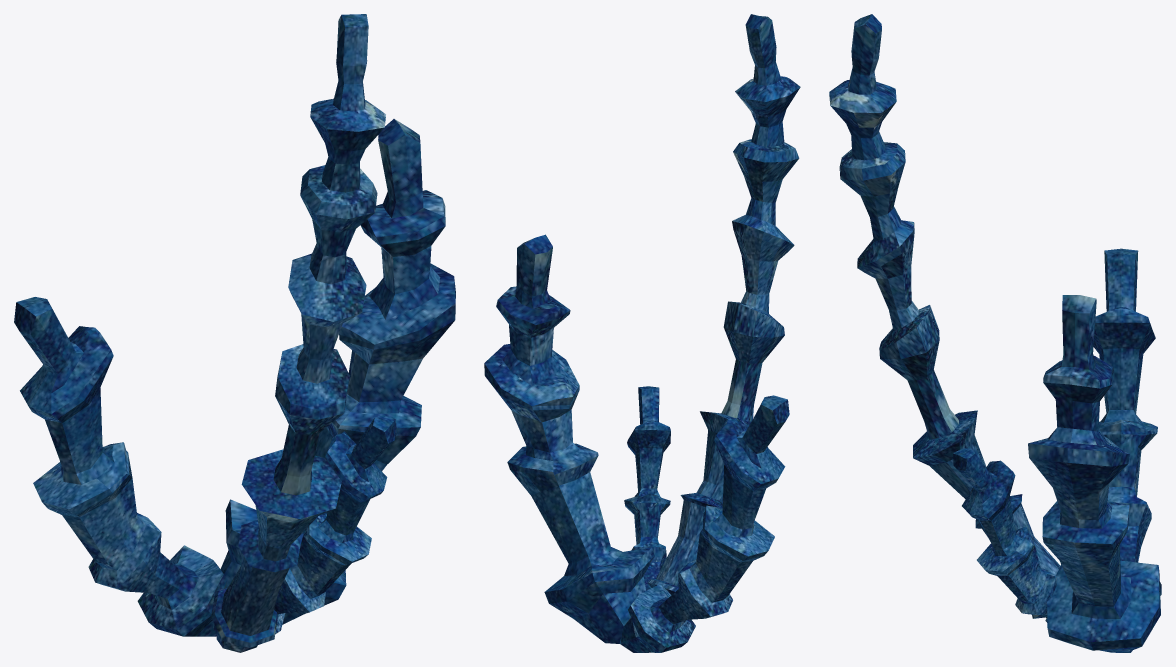
Rendered from coral_azul.glb.
3 renders of one model, left to right at view 1: azimuth 30°, elevation 25°; view 2: azimuth 150°, elevation 25°; view 3: azimuth 270°, elevation 25°, orthographic. The views are drawn at different scales.
Parts seen in each view (by area): view 1: Cube.047_2, Cube.046_1, Cube.044_0, Cube.048_3; view 2: Cube.044_0, Cube.047_2, Cube.046_1, Cube.048_3; view 3: Cube.044_0, Cube.047_2, Cube.046_1, Cube.048_3.
Part boxes in pixels (box(x1,y1,x2,y2)): Cube.047_2: box(211, 14, 385, 652); Cube.046_1: box(14, 297, 227, 636); Cube.044_0: box(220, 119, 455, 624); Cube.048_3: box(213, 415, 396, 633); Cube.044_0: box(484, 234, 654, 644); Cube.047_2: box(647, 14, 800, 594); Cube.046_1: box(620, 395, 789, 652); Cube.048_3: box(624, 386, 670, 591); Cube.044_0: box(1028, 295, 1160, 652); Cube.047_2: box(829, 14, 1060, 618); Cube.046_1: box(1093, 248, 1161, 595); Cube.048_3: box(953, 448, 1056, 622).
Size of the model in its own units: 3.93 by 6.78 by 3.3.
Materials: 1 (1 with a texture image).
